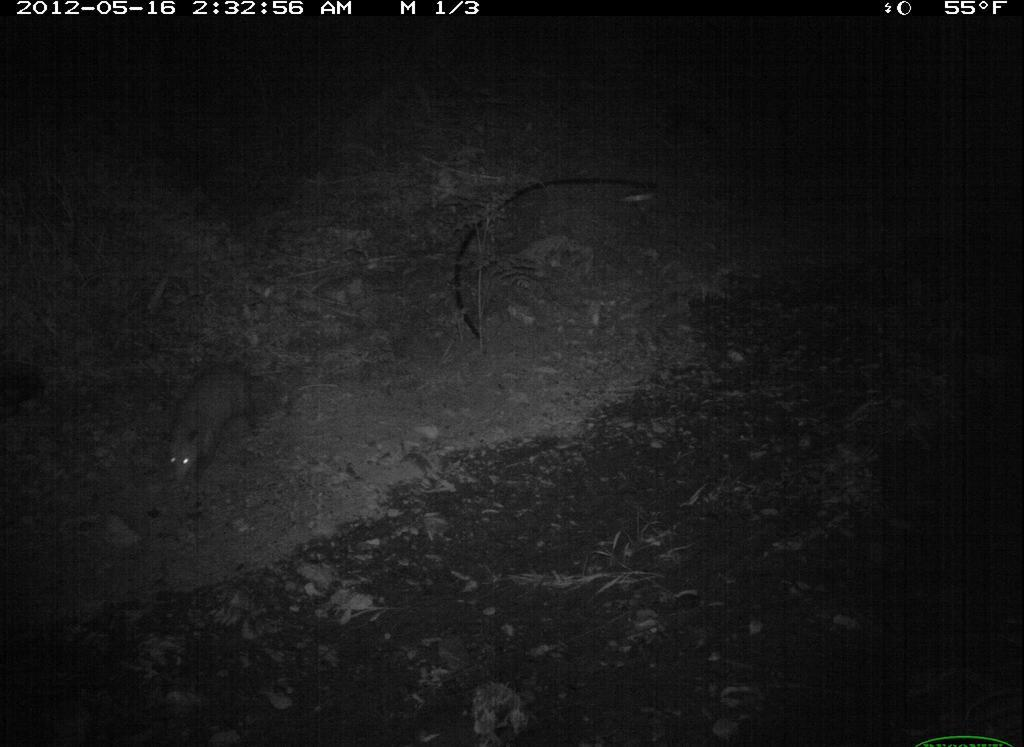opossum: (162, 351, 286, 496)
